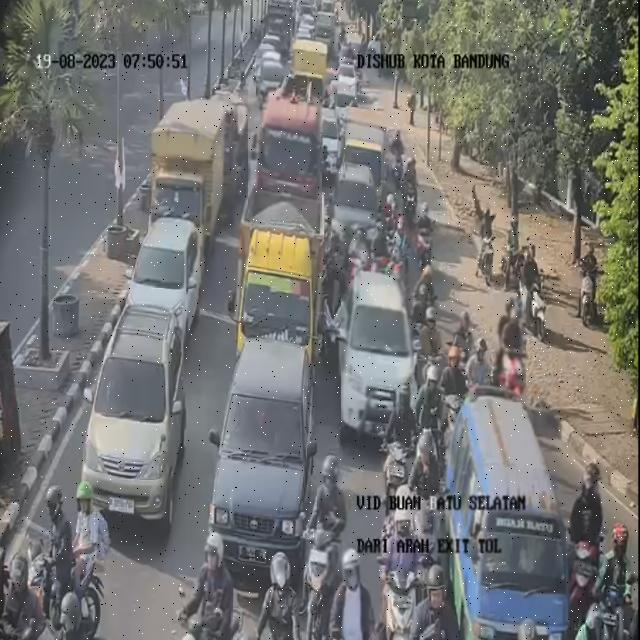cars: (433, 383, 566, 640), (212, 328, 317, 578), (75, 296, 183, 528), (233, 215, 320, 389), (341, 267, 417, 443), (128, 217, 201, 345), (332, 161, 379, 265), (256, 49, 286, 99), (320, 109, 342, 171)
motorcycle: (378, 375, 422, 526), (376, 498, 421, 638), (181, 524, 233, 640), (68, 463, 106, 618), (566, 465, 604, 618), (326, 545, 382, 639), (599, 516, 635, 638), (317, 456, 351, 585), (39, 477, 70, 617), (0, 550, 48, 640), (256, 551, 302, 638), (410, 569, 461, 640), (418, 364, 445, 492), (494, 295, 526, 402), (414, 308, 447, 404), (441, 338, 469, 421), (415, 236, 438, 322), (371, 210, 399, 275), (450, 313, 474, 387), (413, 192, 433, 267), (348, 221, 369, 280), (383, 187, 401, 244), (389, 131, 408, 182), (400, 155, 417, 206)
truck: (149, 96, 248, 288), (248, 95, 322, 228), (340, 109, 386, 186), (289, 35, 327, 104)
